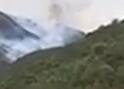smoke: (0, 1, 89, 64)
